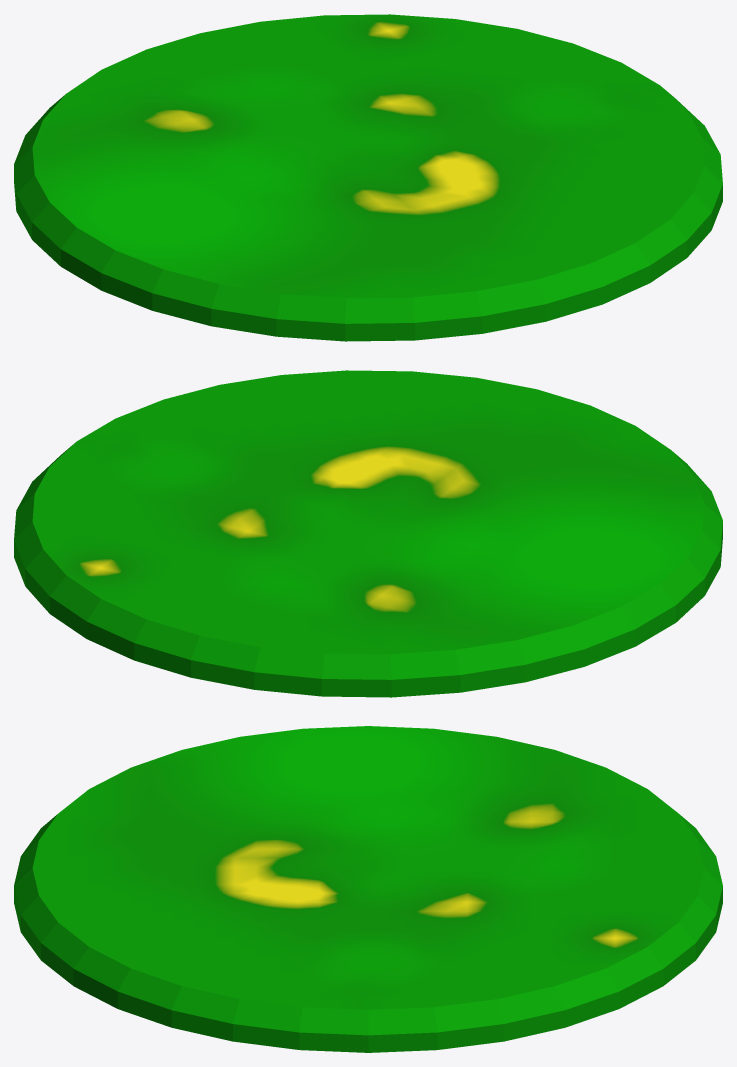
Rendered from Island.obj.
The picture shows the model from 3 angles, top to bottom: view 1: azimuth 30°, elevation 25°; view 2: azimuth 150°, elevation 25°; view 3: azimuth 270°, elevation 25°; orthographic projection.
Parts seen in each view (by area): view 1: Island; view 2: Island; view 3: Island.
Boxes of the visible parts, x1,y1,x2,y2 form: Island: [14, 14, 722, 341]; Island: [14, 370, 722, 697]; Island: [14, 726, 722, 1052].
Bounding box in the file's own units: 135 × 7.39 × 135.
Materials: 1 (1 with a texture image).
